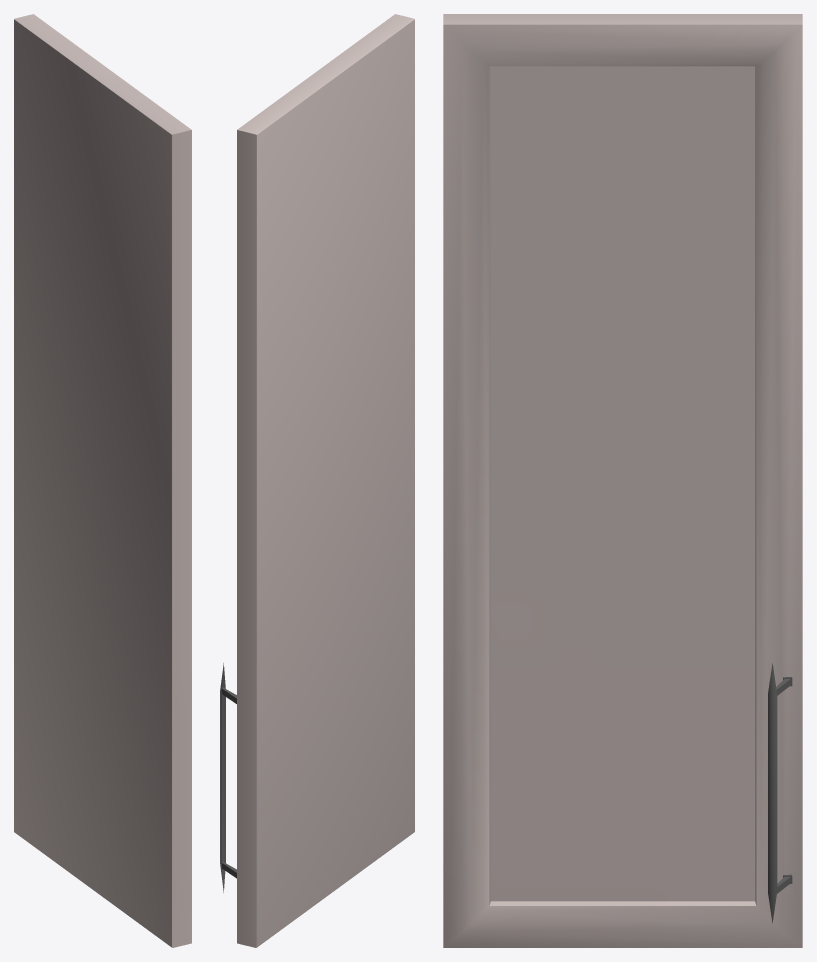
Rendered from kitchencupboard_doorWhole_L.glb.
3 renders of one model, left to right at view 1: azimuth 30°, elevation 25°; view 2: azimuth 150°, elevation 25°; view 3: azimuth 270°, elevation 25°, orthographic. The views are drawn at different scales.
Parts seen in each view (by area): view 1: RC_Furn_CabinetTopShelfDoor5; view 2: RC_Furn_CabinetTopShelfDoor5; view 3: RC_Furn_CabinetTopShelfDoor5.
Part boxes in pixels (<box>): RC_Furn_CabinetTopShelfDoor5: <box>14,14,191,947</box>; RC_Furn_CabinetTopShelfDoor5: <box>220,14,414,947</box>; RC_Furn_CabinetTopShelfDoor5: <box>443,14,802,947</box>.
Bounding box in the file's own units: 0.1538 × 2.38 × 0.8405.
1 material, 1 textured.
